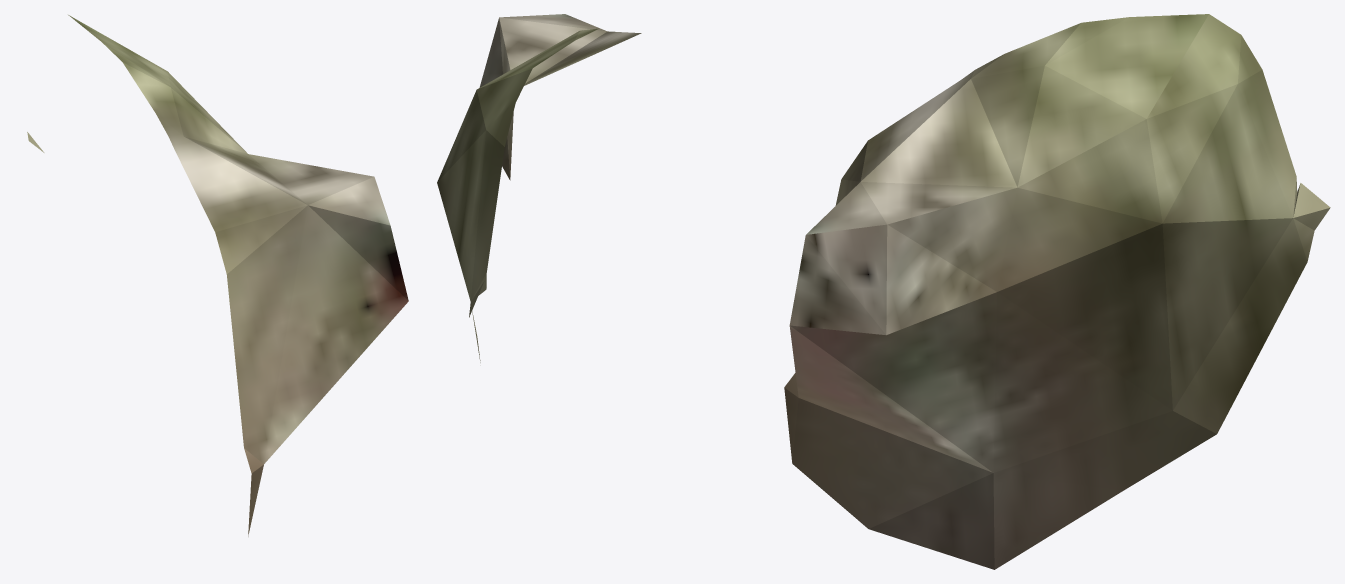
3 renders of one model, left to right at view 1: azimuth 30°, elevation 25°; view 2: azimuth 150°, elevation 25°; view 3: azimuth 270°, elevation 25°, orthographic. The views are drawn at different scales.
Bounding box in the file's own units: 0.2233 × 0.5422 × 0.4829.
Materials: 1 (1 with a texture image).
